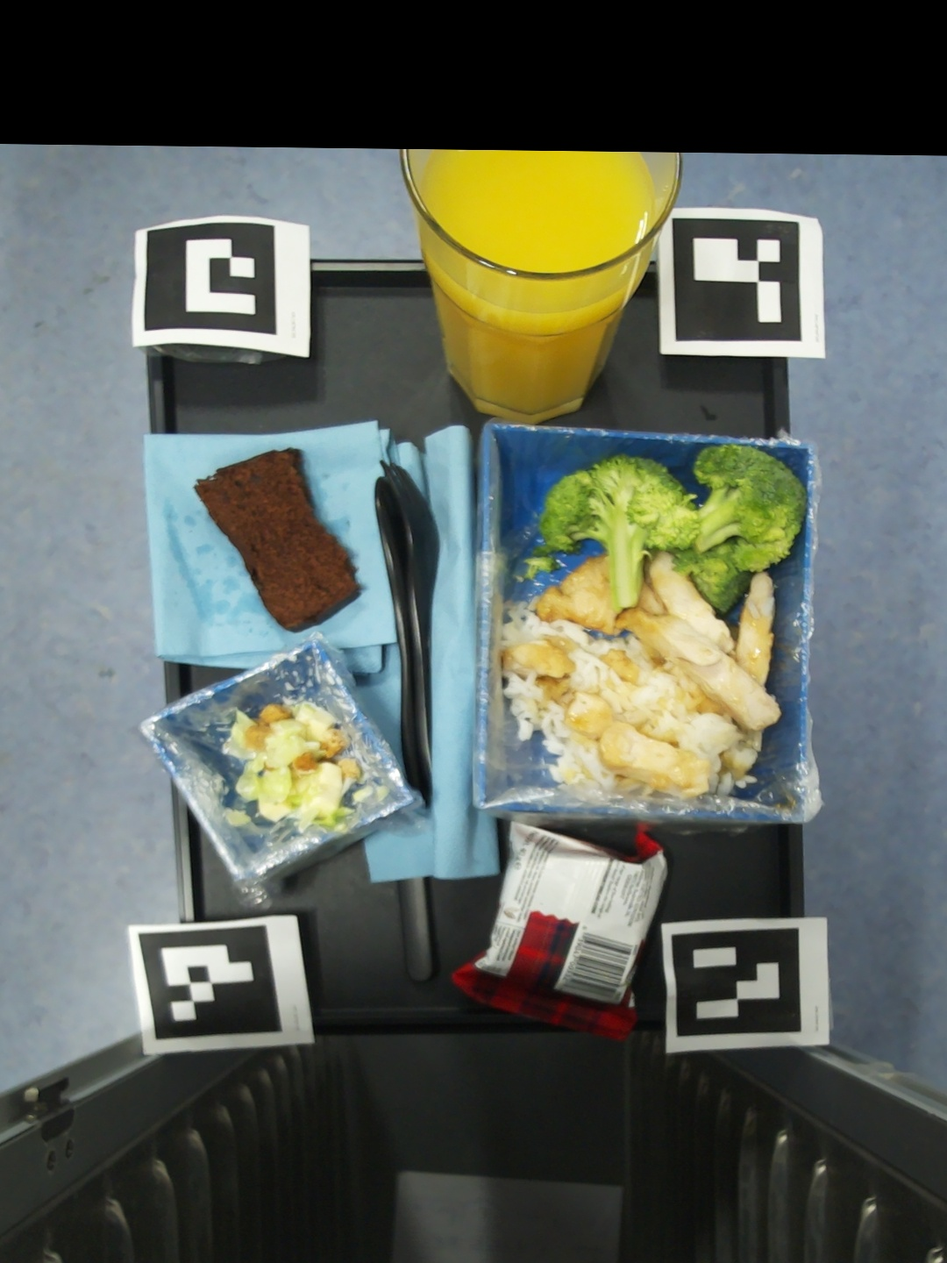broccoli: (524, 443, 806, 614)
brownie: (195, 448, 358, 632)
chicken: (617, 552, 782, 730), (564, 705, 662, 783), (502, 638, 575, 678), (676, 748, 694, 777)
cookie: (451, 821, 667, 1041)
orange_juice_bottle: (401, 150, 683, 423)
rice: (501, 551, 764, 800), (645, 549, 660, 587), (757, 597, 775, 616), (747, 601, 759, 618), (728, 625, 739, 641), (753, 648, 760, 658), (738, 621, 742, 625), (744, 594, 748, 598)
side_salad: (224, 700, 362, 834), (351, 786, 390, 804), (223, 808, 251, 826)
